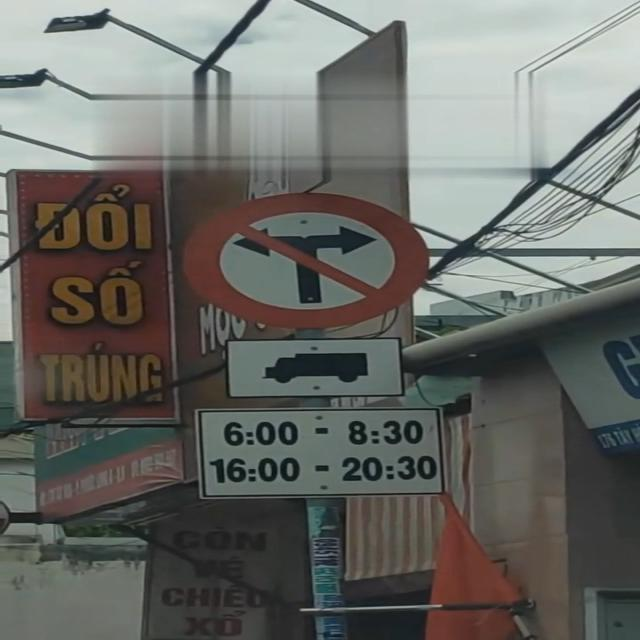137-cam-re-trai-va-re-phai: (184, 191, 430, 331)
